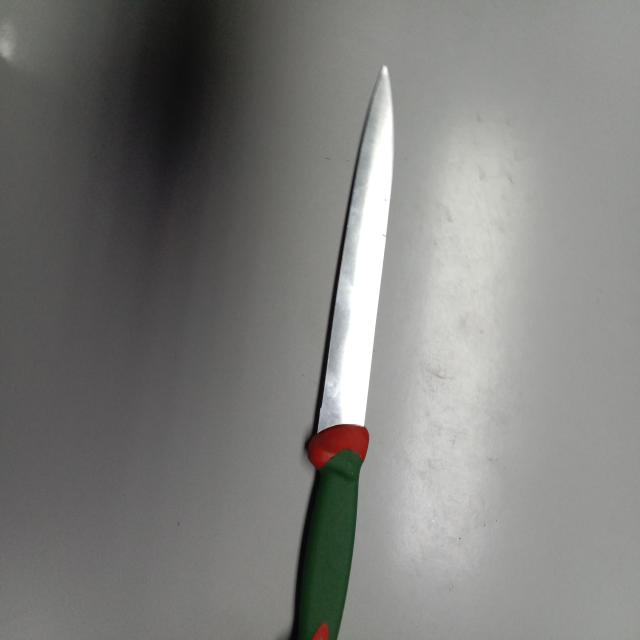Knife: (297, 65, 394, 640)
